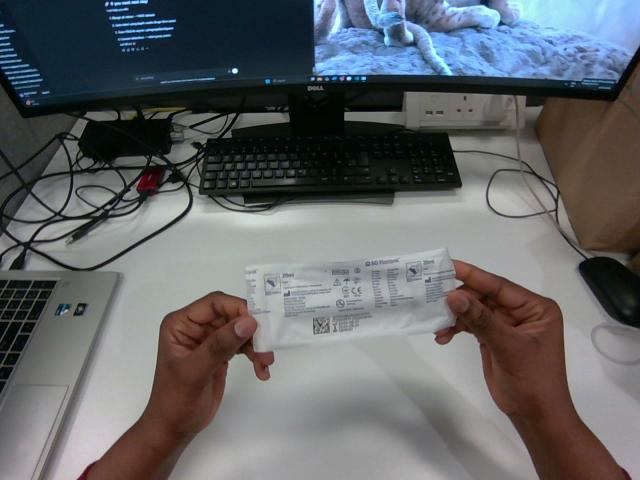syringe: (246, 249, 454, 351)
